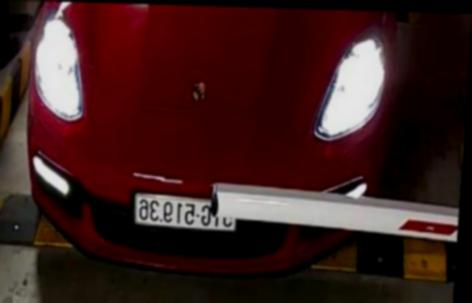License_Plate: (127, 192, 246, 235)
